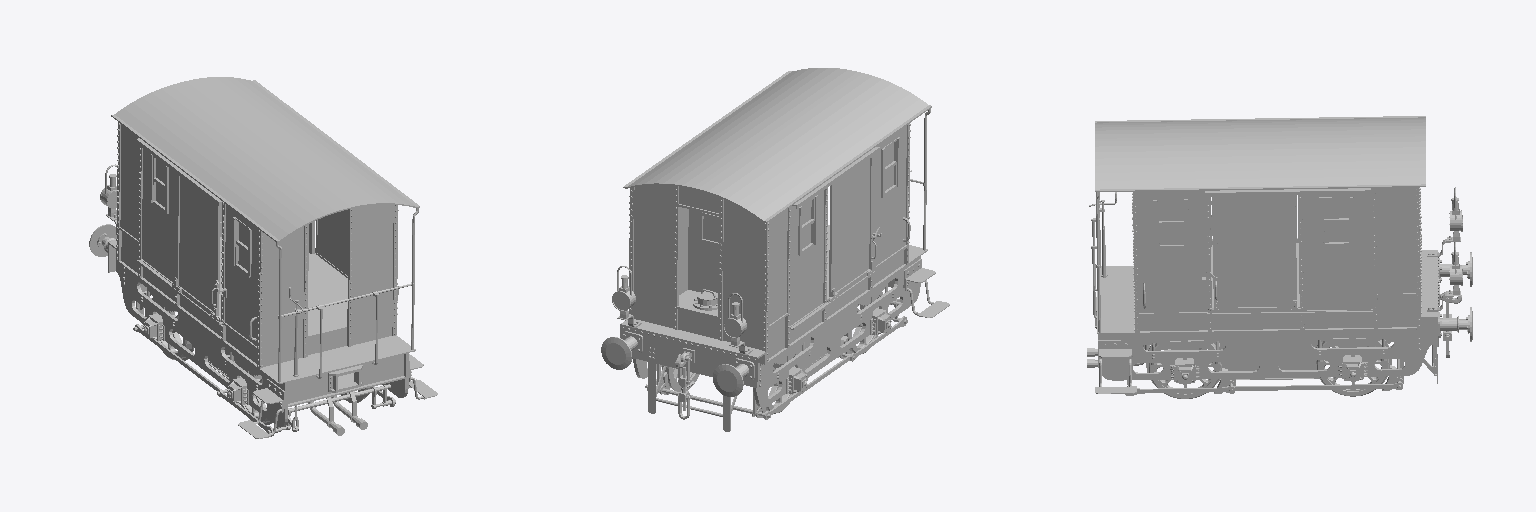
The model's file is ______wagon.obj.
The picture shows the model from 3 angles: view 1: azimuth 30°, elevation 25°; view 2: azimuth 150°, elevation 25°; view 3: azimuth 270°, elevation 25°; orthographic projection.
Visible parts, largest first — view 1: Tender_body1.001, Tender_door1.001, Tender_brakes1.001, Tender_door2.001, Buffer2.001, Lamp1.001; view 2: Tender_body1.001, Tender_door1.001, Tender_brakes1.001, Buffer2.001, Buffer1.001, wagon0, Lamp1.001, Lamp2.001, Tender_wheels2.001; view 3: Tender_body1.001, Tender_door2.001, Tender_brakes1.001, Tender_wheels2.001, Tender_wheels1.001, Buffer1.001.
Boxes of the visible parts, box(x1,y1,x2,y2) form: Tender_body1.001: box(108, 77, 437, 438); Tender_door1.001: box(172, 174, 220, 321); Tender_brakes1.001: box(133, 287, 395, 436); Tender_door2.001: box(315, 210, 347, 277); Buffer2.001: box(89, 224, 116, 256); Lamp1.001: box(100, 164, 117, 220); Tender_body1.001: box(620, 68, 949, 431); Tender_door1.001: box(827, 156, 880, 302); Tender_brakes1.001: box(645, 170, 911, 419); Buffer2.001: box(713, 358, 754, 396); Buffer1.001: box(601, 331, 642, 369); wagon0: box(675, 352, 694, 419); Lamp1.001: box(723, 293, 746, 347); Lamp2.001: box(612, 266, 635, 320); Tender_wheels2.001: box(662, 351, 798, 413); Tender_body1.001: box(1087, 116, 1453, 393); Tender_door2.001: box(1205, 195, 1302, 313); Tender_brakes1.001: box(1089, 192, 1403, 395); Tender_wheels2.001: box(1314, 340, 1391, 396); Tender_wheels1.001: box(1146, 342, 1223, 398); Buffer1.001: box(1438, 307, 1472, 341).
Size of the model in its own units: 2.88 by 3.65 by 5.29.